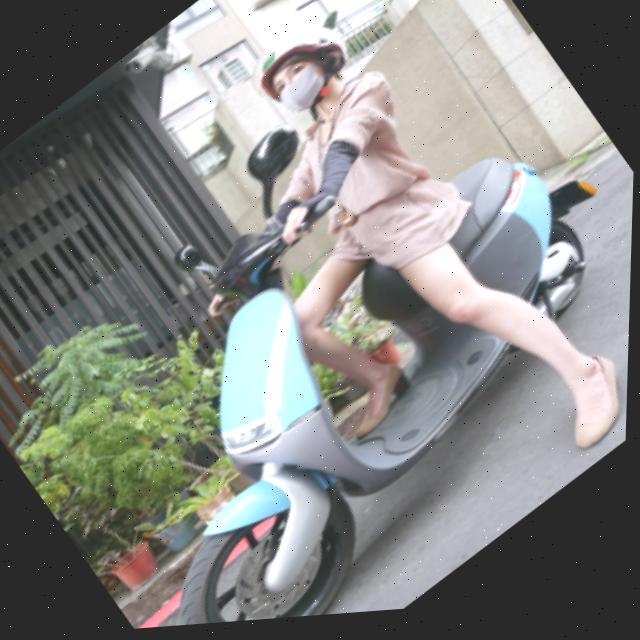Mask: (266, 51, 345, 129)
